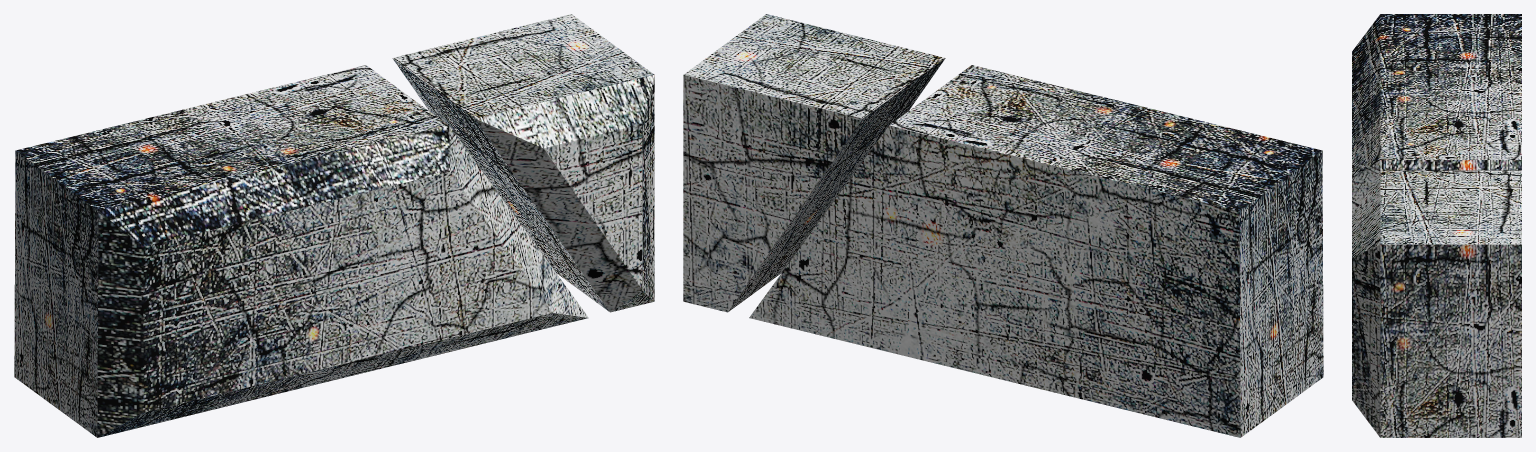
Rendered from Minus.FBX.
The picture shows the model from 3 angles, left to right: view 1: azimuth 30°, elevation 25°; view 2: azimuth 150°, elevation 25°; view 3: azimuth 270°, elevation 25°; orthographic projection. The views are drawn at different scales.
Parts seen in each view (by area): view 1: Minus; view 2: Minus; view 3: Minus.
Boxes of the visible parts, <box> form: Minus: <box>14,14,654,437</box>; Minus: <box>683,14,1323,437</box>; Minus: <box>1352,14,1521,437</box>.
Size of the model in its own units: 38.75 by 15.1 by 12.
Materials: 1 (1 with a texture image).
